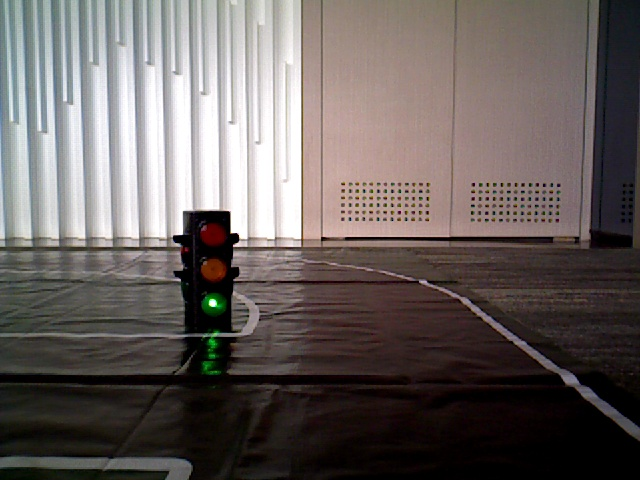green: (190, 217, 228, 326)
